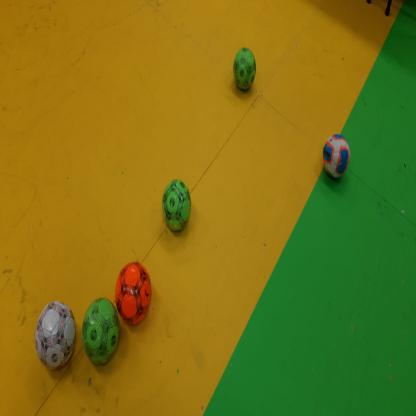ball: (36, 301, 76, 372), (82, 298, 120, 368), (116, 261, 152, 327), (162, 178, 191, 233), (324, 134, 350, 182), (234, 48, 256, 93)
